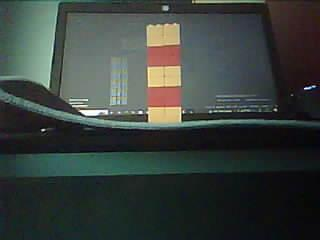lego: (145, 23, 182, 122)
